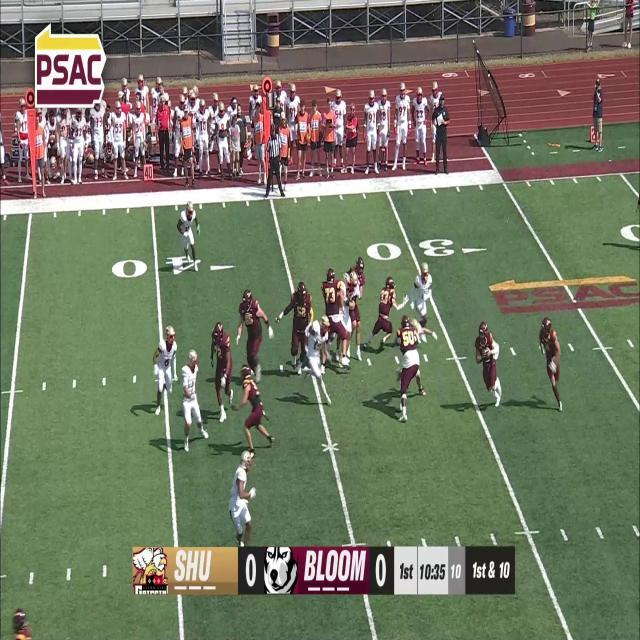football: (483, 349, 491, 363)
